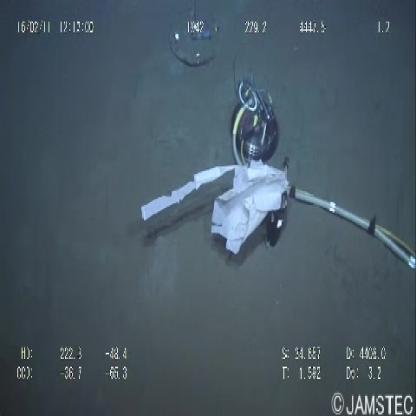Rác: (141, 154, 290, 260)
